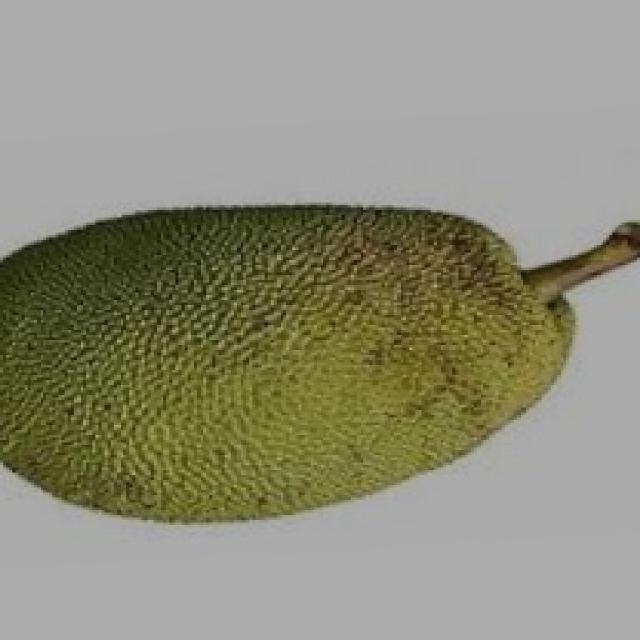Fruit: (0, 192, 403, 550), (200, 185, 612, 535)
